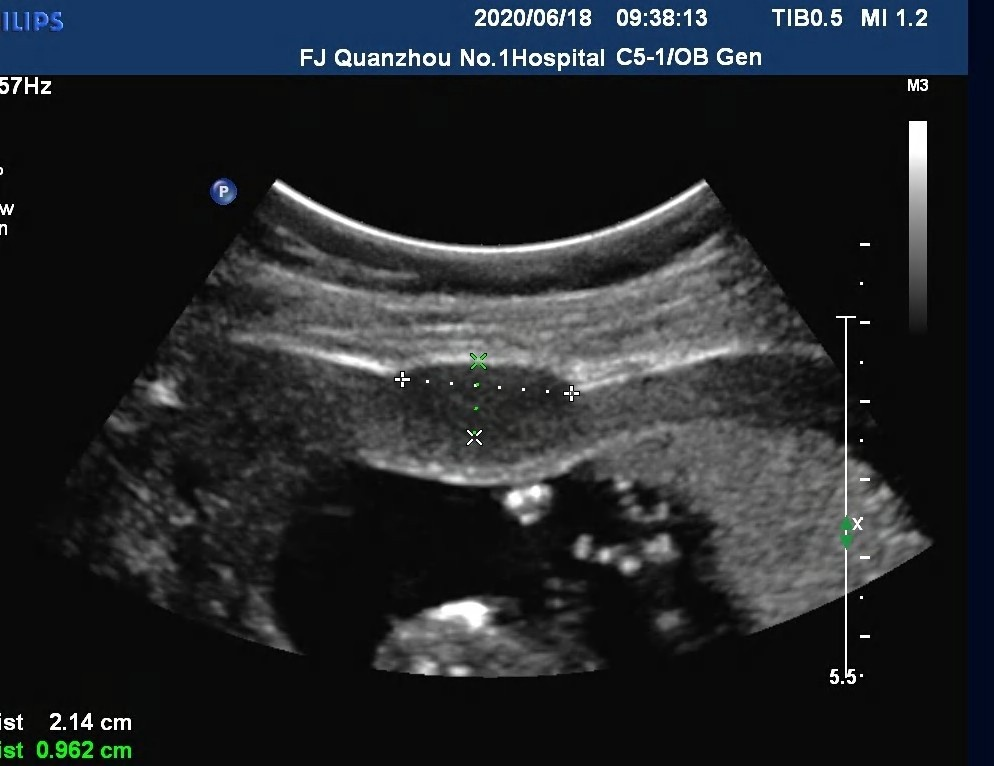肌瘤: (411, 367, 569, 431)
